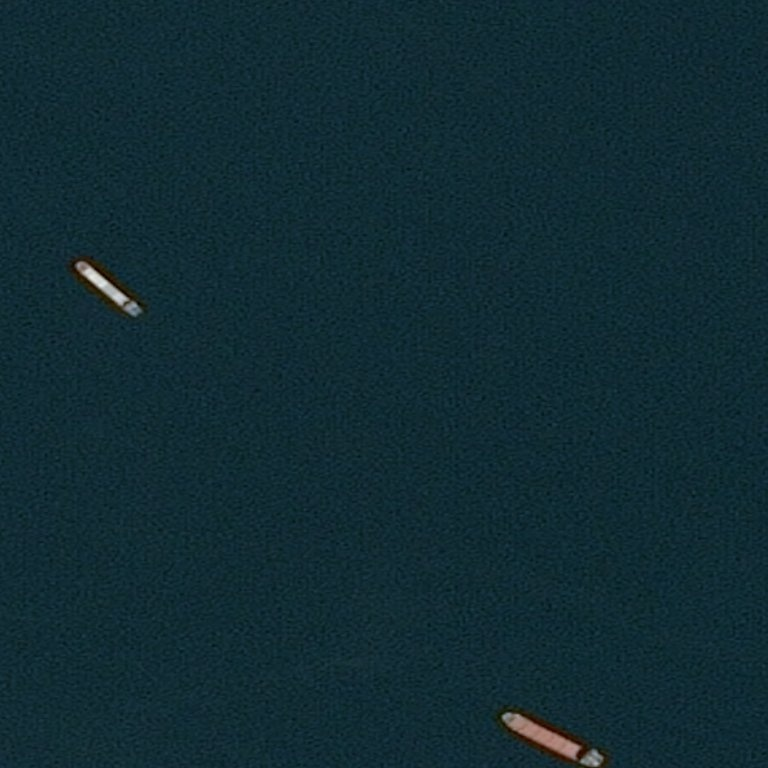ship: (500, 713, 603, 767), (75, 258, 140, 316)
